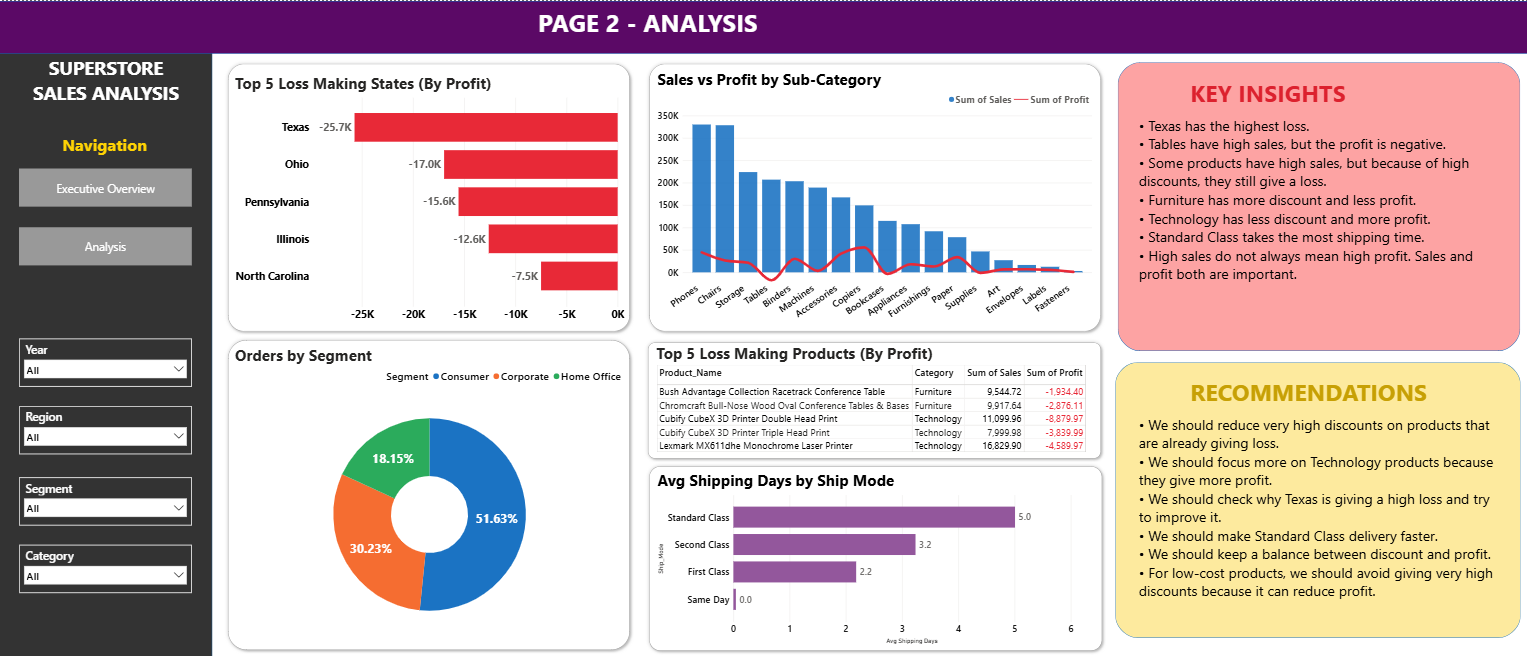

The page's visual inventory and layout, read from the dashboard file:
{"tool":"powerbi","page":{"name":"Analysis","canvas":[3500,1500],"ordinal":1},"visuals":[{"type":"shape","box":[2556.7,140,920,660],"z":0},{"type":"shape","box":[513.3,133.3,936.7,630],"z":1000},{"type":"shape","box":[0,117.5,487.5,1382.5],"z":2500},{"type":"shape","box":[1473.3,770,1053.3,283.3],"z":3000},{"type":"shape","box":[1476.7,133.3,1050,630],"z":4000},{"type":"barChart","title":"Top 5 Loss Making States (By Profit)","fields":{"Y":["Sum(SUPERSTORE.Profit)"],"Category":["SUPERSTORE.State"]},"box":[533.3,163.3,900,580],"z":4500},{"type":"shape","box":[513.3,766.7,936.7,726.7],"z":5000},{"type":"lineClusteredColumnComboChart","title":"Sales vs Profit by Sub-Category","fields":{"Category":["SUPERSTORE.Sub_Category"],"Y":["Sum(SUPERSTORE.Sales)"],"Y2":["Sum(SUPERSTORE.Profit)"]},"box":[1500,153.3,1003.3,593.3],"z":6000},{"type":"tableEx","title":"Top 5 Loss Making Products (By Profit)","fields":{"Values":["SUPERSTORE.Product_Name","SUPERSTORE.Category","Sum(SUPERSTORE.Sales)","Sum(SUPERSTORE.Profit)"]},"box":[1496.7,780,1013.3,256.7],"z":7000},{"type":"shape","box":[1476.7,1053.3,1053.3,440],"z":8000},{"type":"shape","box":[0,0,3500,120],"z":9000},{"type":"clusteredBarChart","title":"Avg Shipping Days by Ship Mode","fields":{"Category":["SUPERSTORE.Ship_Mode"],"Y":["SUPERSTORE.Avg Shipping Days"]},"box":[1500,1070,1006.7,403.3],"z":10000},{"type":"donutChart","title":"Orders by Segment","fields":{"Y":["Count(SUPERSTORE.Order_ID)"],"Category":["SUPERSTORE.Segment"]},"box":[533.3,786.7,900,690],"z":11000},{"type":"shape","box":[2550,826.7,926.7,630],"z":12000},{"type":"textbox","box":[2600,170,833.3,630],"z":13000},{"type":"textbox","box":[2600,850,833.3,590],"z":14000},{"type":"textbox","box":[1180,6.7,606.7,110],"z":15000},{"type":"textbox","box":[61.7,118.3,363.3,131.7],"z":19500},{"type":"slicer","fields":{"Values":["SUPERSTORE.Region"]},"box":[45,925,395,110],"z":21500},{"type":"slicer","fields":{"Values":["SUPERSTORE.Segment"]},"box":[45,1087.5,395,110],"z":22500},{"type":"slicer","fields":{"Values":["SUPERSTORE.Category"]},"box":[45,1242.5,395,110],"z":23000},{"type":"textbox","box":[92.5,297.5,300,62.5],"z":23500},{"type":"actionButton","box":[45,382.5,395,87.5],"z":24500},{"type":"actionButton","box":[45,517.5,395,87.5],"z":25500},{"type":"slicer","fields":{"Values":["SUPERSTORE.Order_Date.Variation.Date Hierarchy.Year"]},"box":[45,770,395,110],"z":26000}]}

Visuals, with their boxes in screenshot pixels (x1, y1, x2, y2), scaled from the page's 3500x1500 canvas onto the 1527x656 screenshot:
shape: 1115,61,1517,350
shape: 224,58,633,334
shape: 0,51,213,655
shape: 643,337,1102,461
shape: 644,58,1102,334
"Top 5 Loss Making States (By Profit)" barChart: 233,71,625,325
shape: 224,335,633,653
"Sales vs Profit by Sub-Category" lineClusteredColumnComboChart: 654,67,1092,327
"Top 5 Loss Making Products (By Profit)" tableEx: 653,341,1095,453
shape: 644,461,1104,653
shape: 0,0,1526,52
"Avg Shipping Days by Ship Mode" clusteredBarChart: 654,468,1094,644
"Orders by Segment" donutChart: 233,344,625,646
shape: 1113,362,1517,637
textbox: 1134,74,1498,350
textbox: 1134,372,1498,630
textbox: 515,3,780,51
textbox: 27,52,185,109
slicer - SUPERSTORE.Region: 20,405,192,453
slicer - SUPERSTORE.Segment: 20,476,192,524
slicer - SUPERSTORE.Category: 20,543,192,591
textbox: 40,130,171,157
actionButton: 20,167,192,206
actionButton: 20,226,192,265
slicer - SUPERSTORE.Order_Date.Variation.Date Hierarchy.Year: 20,337,192,385
